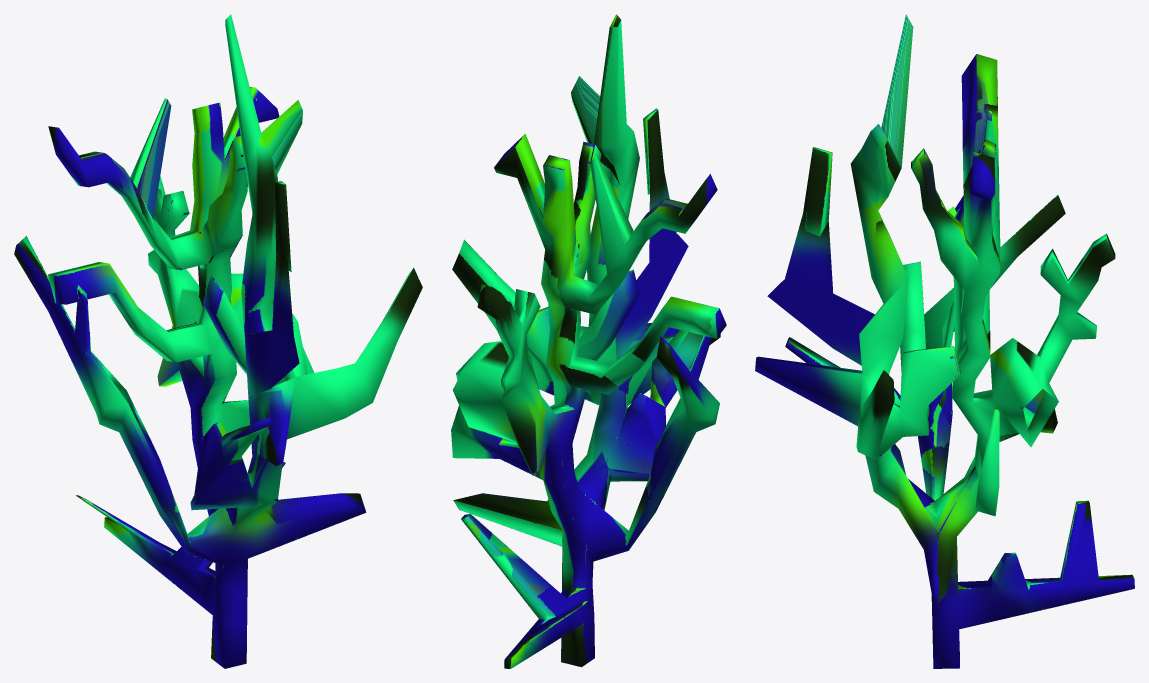
Rendered from plante8.fbx.
3 renders of one model, left to right at view 1: azimuth 30°, elevation 25°; view 2: azimuth 150°, elevation 25°; view 3: azimuth 270°, elevation 25°, orthographic. The views are drawn at different scales.
Parts seen in each view (by area): view 1: Cube.001; view 2: Cube.001; view 3: Cube.001.
Part boxes in pixels (box(x1,y1,x2,y2)): Cube.001: box(14, 14, 422, 668); Cube.001: box(451, 14, 726, 668); Cube.001: box(755, 14, 1134, 668).
Size of the model in its own units: 2577 by 5145 by 2763.
1 material, 1 textured.
